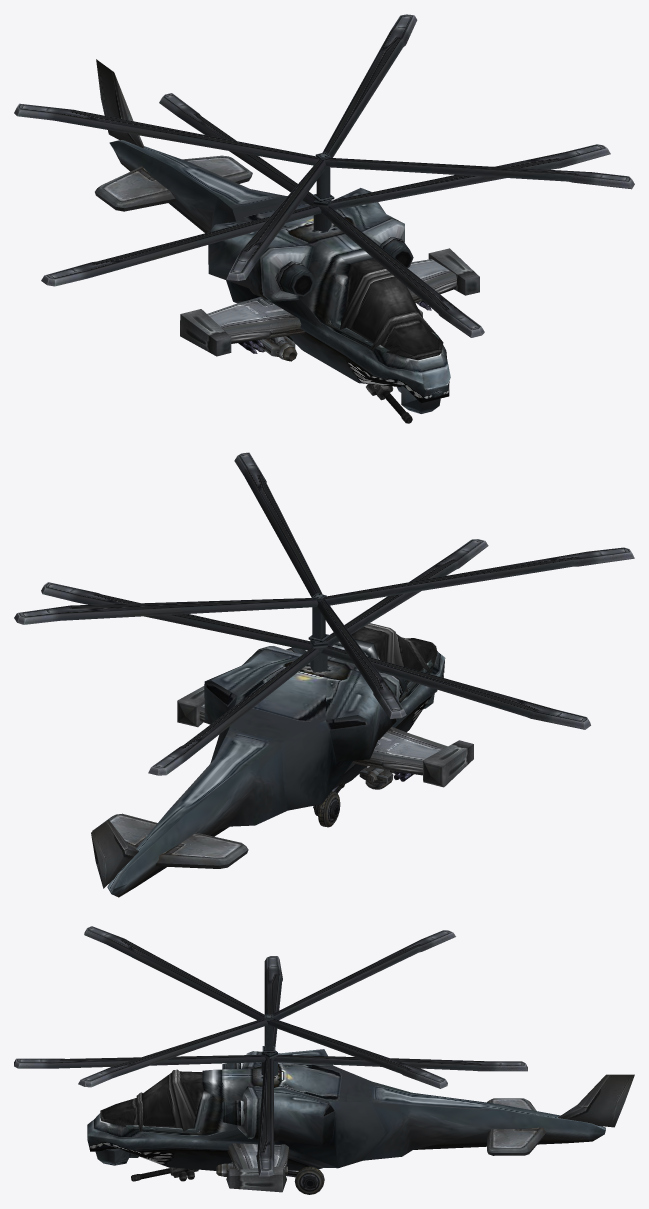
Rendered from ka52-alligator.glb.
3 views of the same model, one above another, from view 1: azimuth 30°, elevation 25°; view 2: azimuth 150°, elevation 25°; view 3: azimuth 270°, elevation 25° (orthographic). The views are drawn at different scales.
Parts seen in each view (by area): view 1: Banshee_0, PointDefenseDrone_1, Unit_Terran_Banshee_MainRotorBlades_Bone, BansheeTandemCockpit_0, BansheeWeaponPylons_0, BansheeTailRudders_0, BansheeUVS26ChaffPods_0, BansheeTV3117Engine_0, BansheeTailWing_0, BansheeSkyfireRocketPods_0, Banshee2A4230mmAutocannon_0; view 2: Banshee_0, PointDefenseDrone_1, Unit_Terran_Banshee_MainRotorBlades_Bone, BansheeTailRudders_0, BansheeWeaponPylons_0, BansheeUVS26ChaffPods_0, BansheeTandemCockpit_0, BansheeTailWing_0, BansheeGears_0; view 3: Banshee_0, PointDefenseDrone_1, Unit_Terran_Banshee_MainRotorBlades_Bone, BansheeTandemCockpit_0, BansheeTailWing_0, BansheeTailRudders_0, BansheeUVS26ChaffPods_0, BansheeWeaponPylons_0, BansheeGears_0, BansheeTV3117Engine_0, Banshee2A4230mmAutocannon_0.
Part boxes in pixels (box(x1,y1,x2,y2)): Banshee_0: box(109, 140, 450, 413); PointDefenseDrone_1: box(14, 14, 634, 281); Unit_Terran_Banshee_MainRotorBlades_Bone: box(41, 93, 610, 337); BansheeTandemCockpit_0: box(340, 258, 443, 360); BansheeWeaponPylons_0: box(207, 259, 456, 343); BansheeTailRudders_0: box(95, 155, 252, 211); BansheeUVS26ChaffPods_0: box(180, 248, 479, 356); BansheeTV3117Engine_0: box(275, 236, 413, 296); BansheeTailWing_0: box(96, 59, 144, 148); BansheeSkyfireRocketPods_0: box(258, 309, 422, 361); Banshee2A4230mmAutocannon_0: box(366, 384, 412, 423); Banshee_0: box(107, 639, 445, 897); PointDefenseDrone_1: box(14, 452, 634, 718); Unit_Terran_Banshee_MainRotorBlades_Bone: box(41, 539, 590, 775); BansheeTailRudders_0: box(92, 813, 248, 868); BansheeWeaponPylons_0: box(199, 704, 447, 775); BansheeUVS26ChaffPods_0: box(177, 686, 473, 787); BansheeTandemCockpit_0: box(351, 623, 437, 691); BansheeTailWing_0: box(91, 819, 138, 888); BansheeGears_0: box(313, 781, 345, 827); Banshee_0: box(87, 1049, 605, 1170); PointDefenseDrone_1: box(78, 926, 455, 1088); Unit_Terran_Banshee_MainRotorBlades_Bone: box(14, 956, 527, 1176); BansheeTandemCockpit_0: box(100, 1069, 203, 1131); BansheeTailWing_0: box(558, 1074, 634, 1127); BansheeTailRudders_0: box(487, 1098, 546, 1155); BansheeUVS26ChaffPods_0: box(226, 1166, 286, 1192); BansheeWeaponPylons_0: box(227, 1143, 289, 1170); BansheeGears_0: box(285, 1166, 324, 1194); BansheeTV3117Engine_0: box(222, 1063, 244, 1125); Banshee2A4230mmAutocannon_0: box(131, 1167, 198, 1181).
Size of the model in its own units: 2.76 by 1.04 by 3.33.
22 materials, 22 textured.
